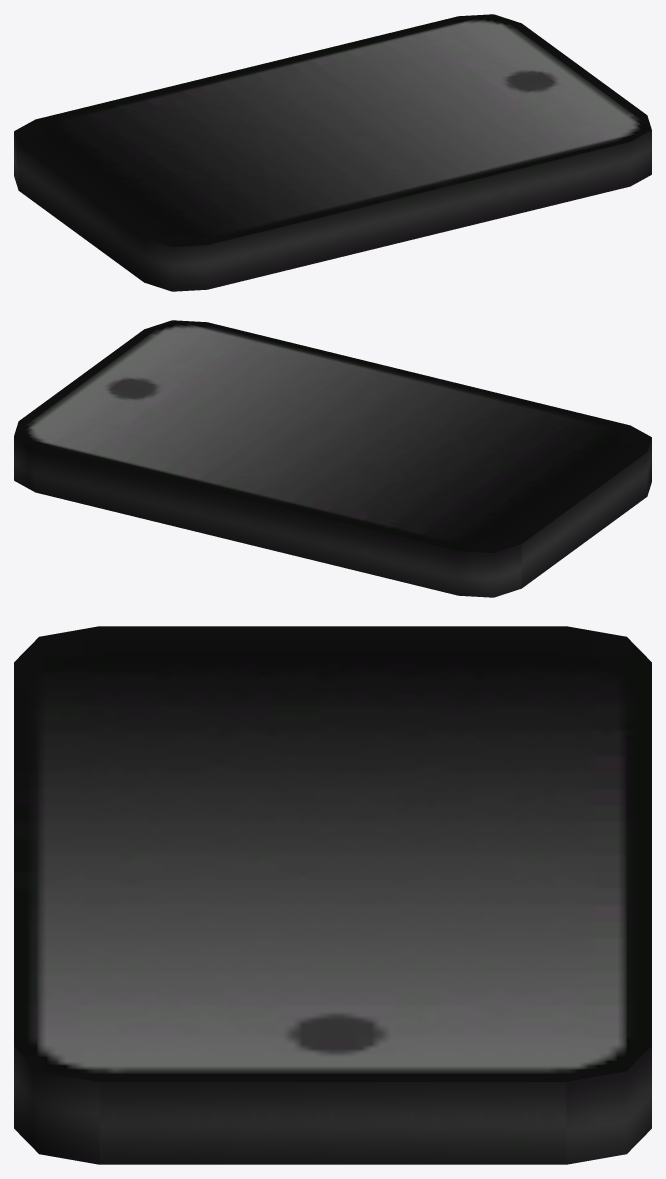
File: Phone_Relic.fbx
3 renders of one model, top to bottom at view 1: azimuth 30°, elevation 25°; view 2: azimuth 150°, elevation 25°; view 3: azimuth 270°, elevation 25°, orthographic. The views are drawn at different scales.
Parts seen in each view (by area): view 1: Relic_Phone; view 2: Relic_Phone; view 3: Relic_Phone.
Boxes of the visible parts, left/top/right/bottom form: Relic_Phone: left=14, top=14, right=651, bottom=291; Relic_Phone: left=14, top=320, right=651, bottom=597; Relic_Phone: left=14, top=626, right=651, bottom=1164.
Size of the model in its own units: 0.9694 by 0.0821 by 0.5734.
